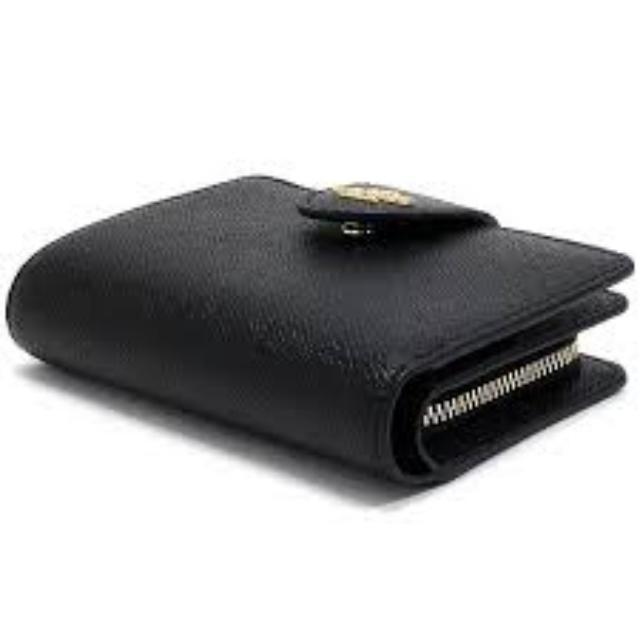wallet: (25, 145, 640, 502)
